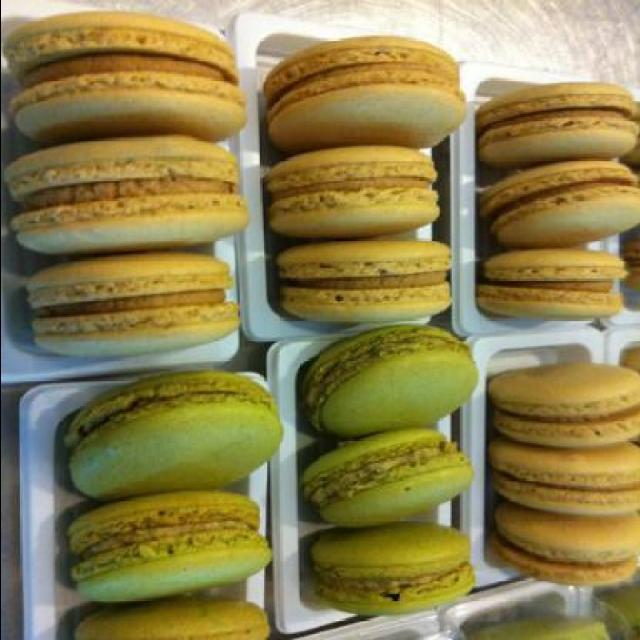Macaron: (19, 12, 636, 638)
